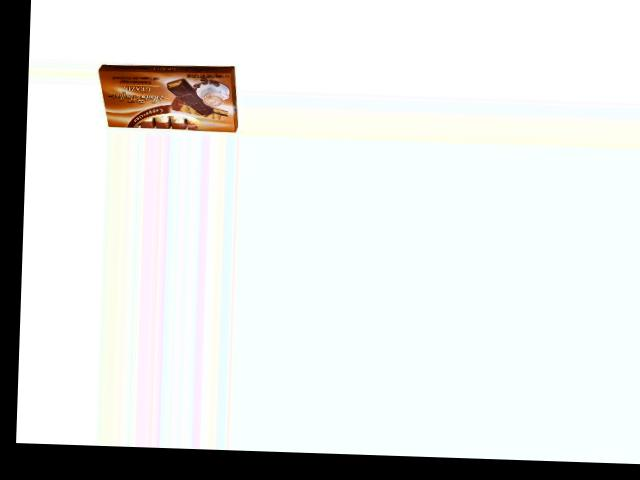chocolate: (93, 61, 240, 133)
